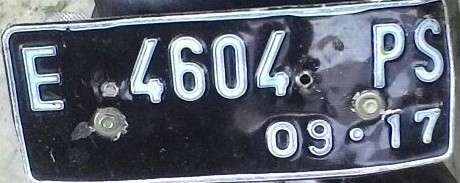plate: (4, 3, 459, 181)
